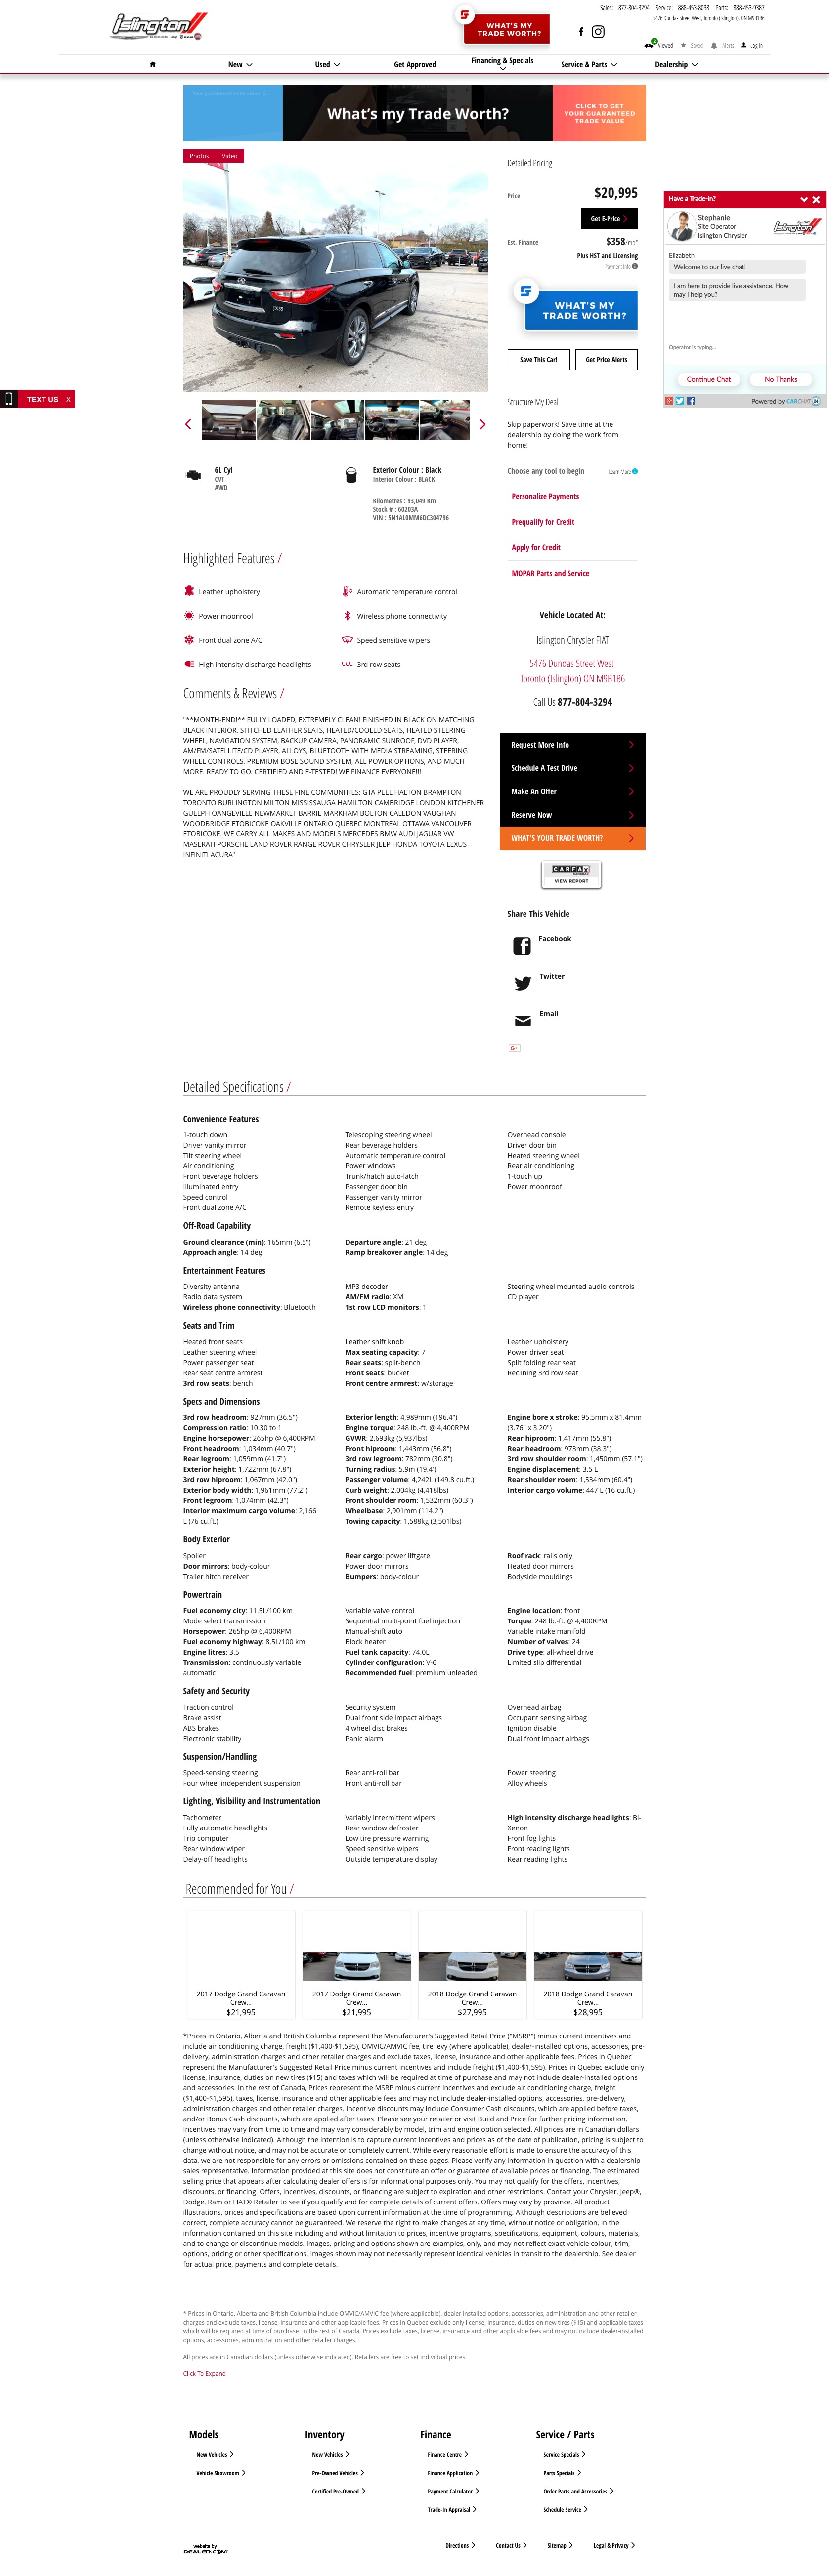car: (480, 419, 487, 430)
